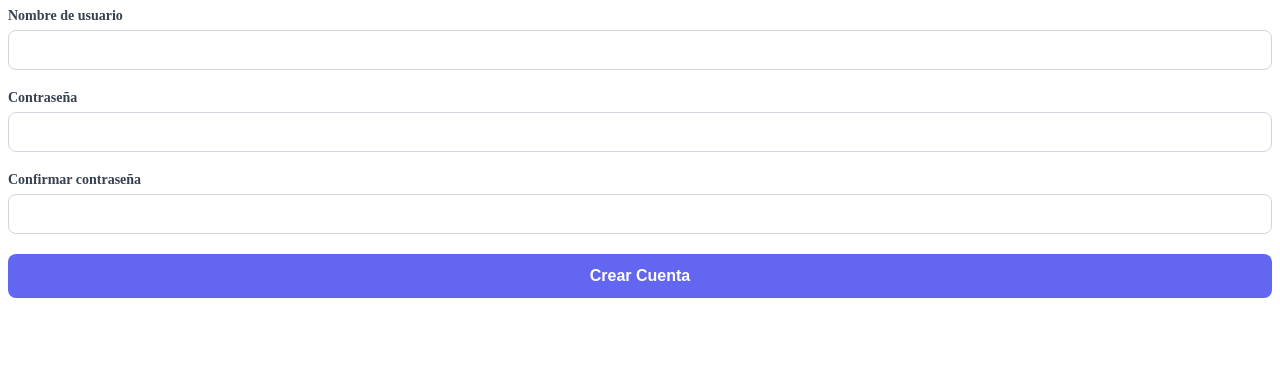
RegisterForm › shows username error when username length is below minimum
Type "ab" into the field labelled "Nombre de usuario" at {"x": 640, "y": 50}, box [8, 30, 1272, 70]
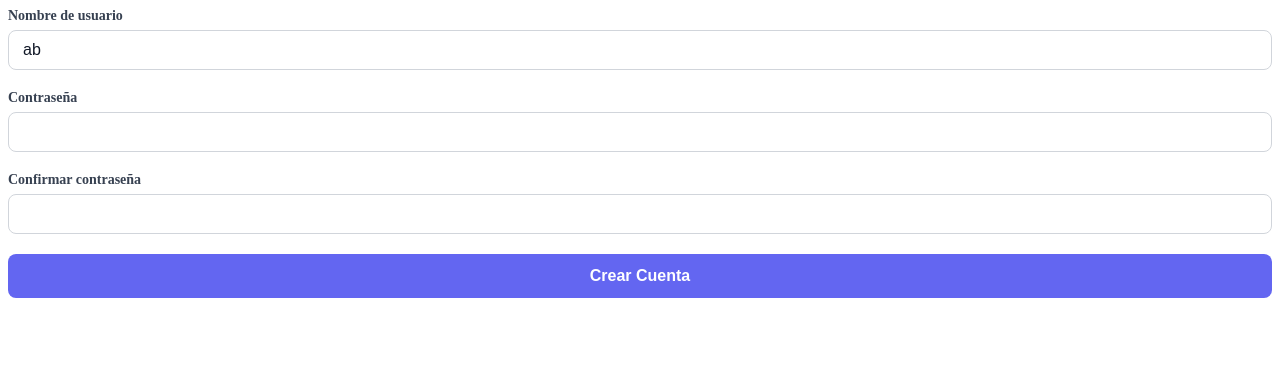
Submit the form from the button "Crear Cuenta", box [8, 254, 1272, 298]
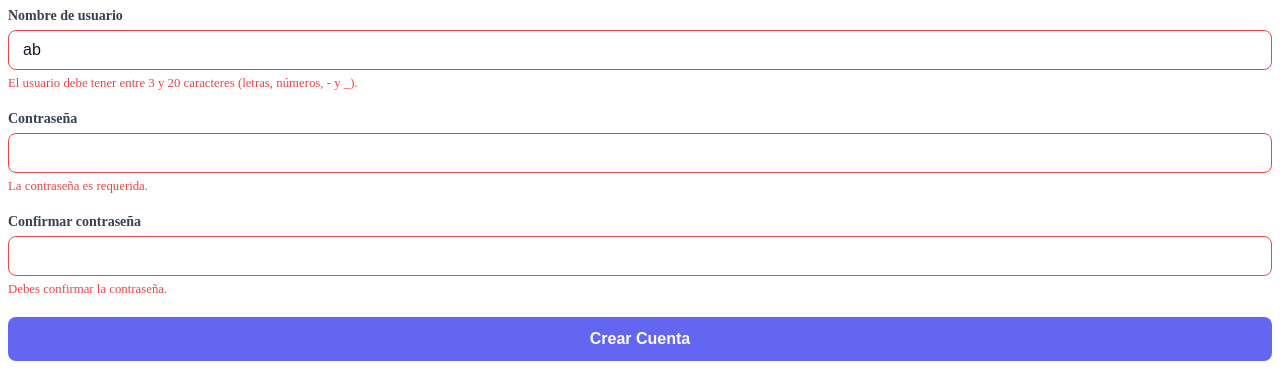
Expected: the text "El usuario debe tener entre 3 y 20 caracteres" is shown, [8, 76, 358, 90]
